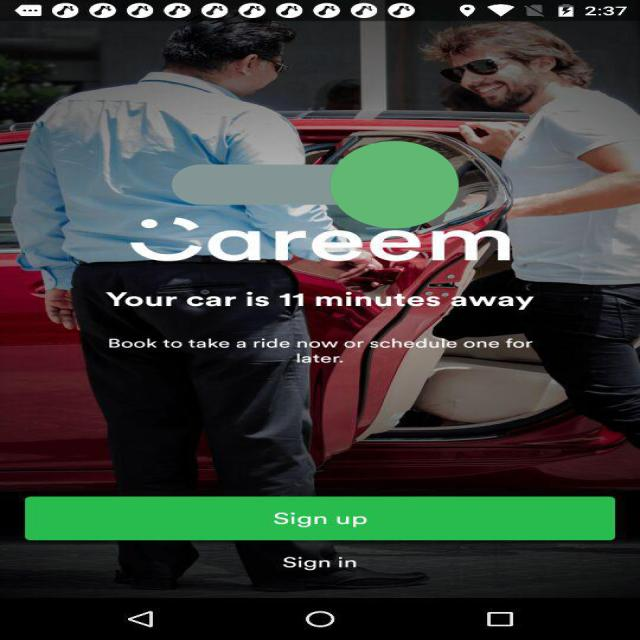social proof: (172, 87, 459, 282)
